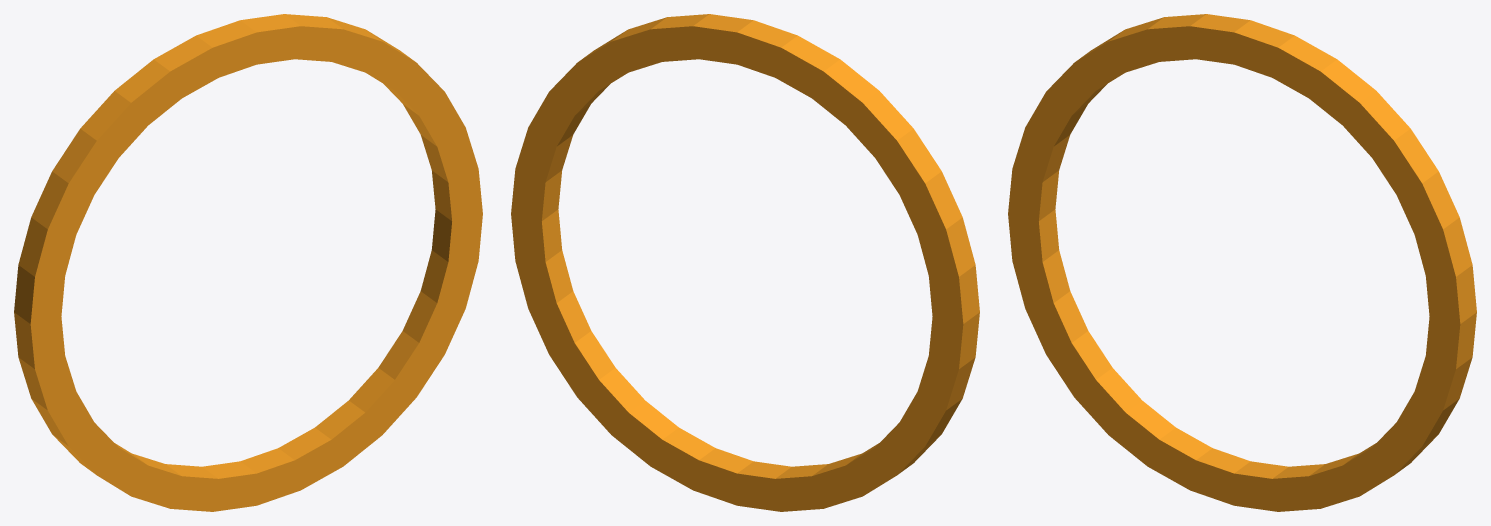
The model's file is SM_Icon_Circle_01.fbx.
3 views of the same model, side by side, from view 1: azimuth 30°, elevation 25°; view 2: azimuth 150°, elevation 25°; view 3: azimuth 330°, elevation 25° (orthographic).
Visible parts, largest first — view 1: SM_Icon_Circle_01; view 2: SM_Icon_Circle_01; view 3: SM_Icon_Circle_01.
Boxes of the visible parts, x1,y1,x2,y2 form: SM_Icon_Circle_01: [14, 14, 482, 511]; SM_Icon_Circle_01: [511, 14, 979, 511]; SM_Icon_Circle_01: [1008, 14, 1476, 511].
Bounding box in the file's own units: 57.6 × 57.6 × 3.67.
